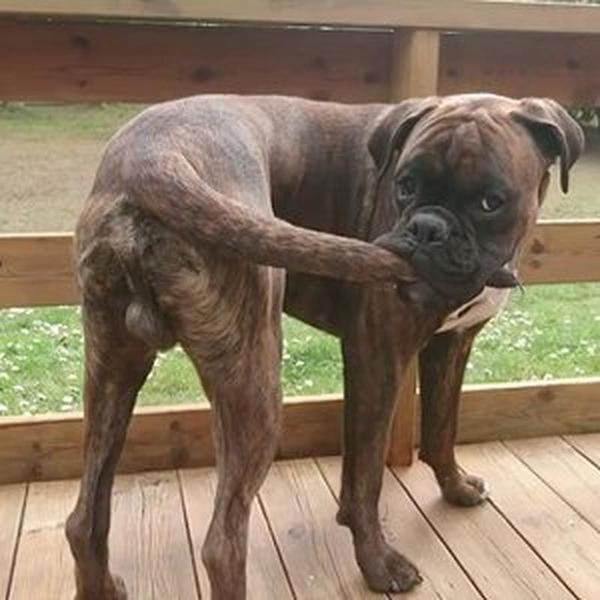allqu: (19, 67, 591, 600)
